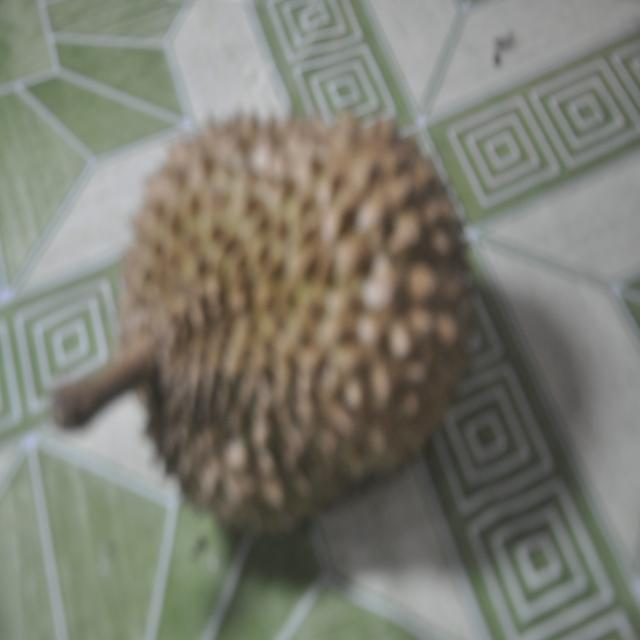mature: (54, 115, 477, 533)
